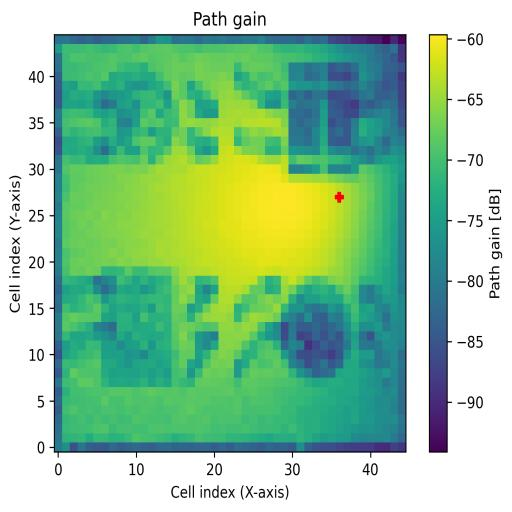Concrete: (290, 63, 359, 174)
Glass: (94, 63, 180, 163)
Metal: (281, 276, 351, 378)
Wood: (101, 266, 180, 389)
